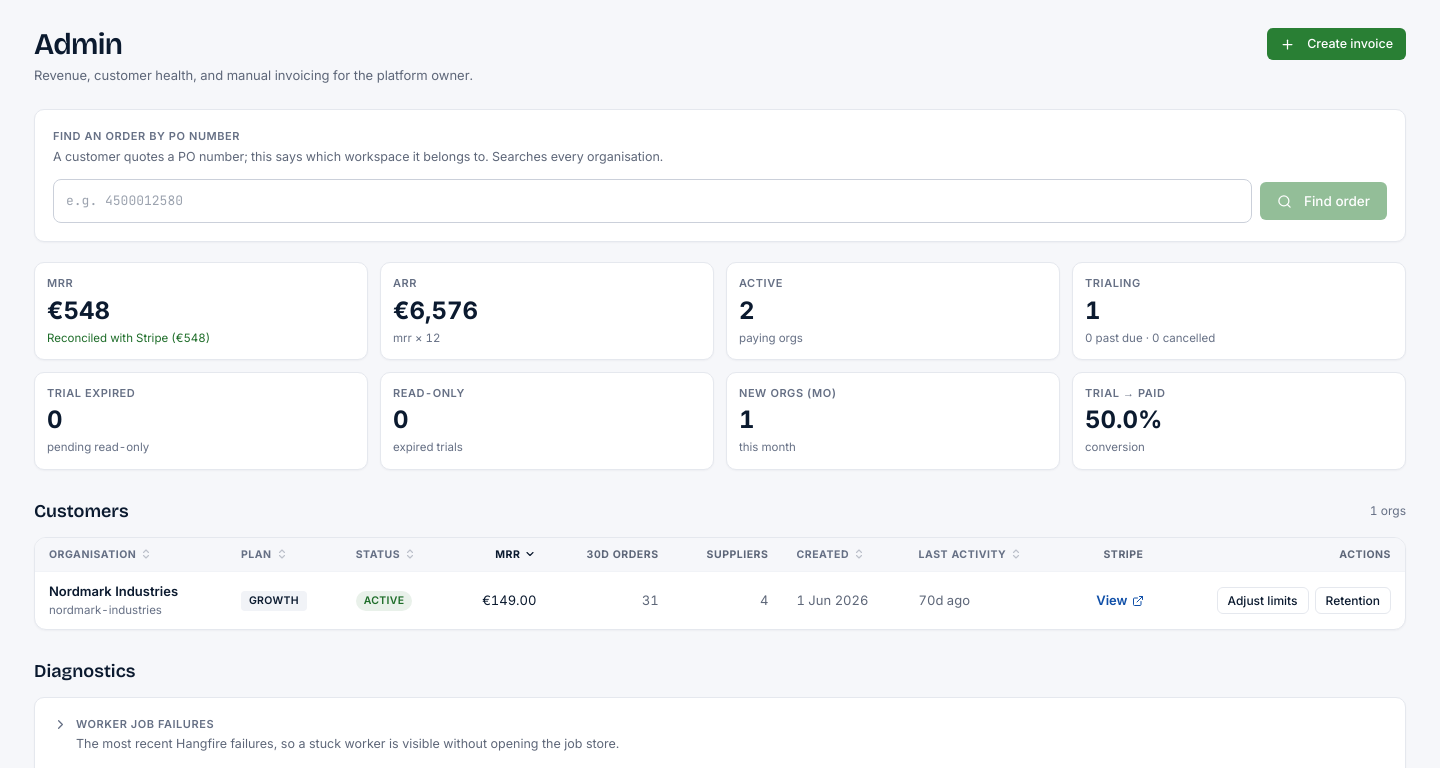
Scenario: admin — a lookup result names the owning workspace › reports a genuinely empty result as empty
Expected: the heading "Customers" is shown, [34,498,129,525]
Type "NOPE-1" into the search field named "po number" at (652, 201), box [53,179,1252,223]
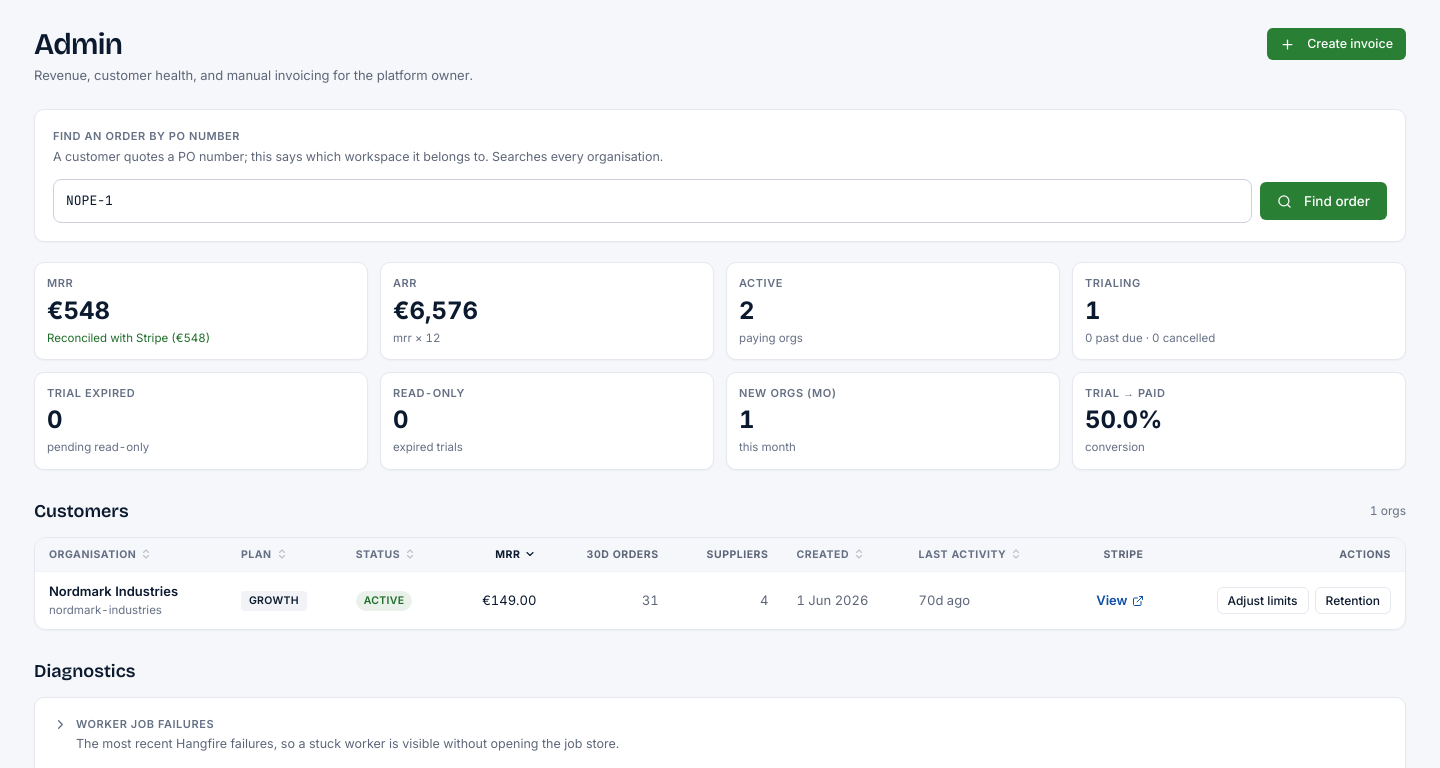
Click the button "Find order" at (1324, 201), box [1260,182,1387,220]
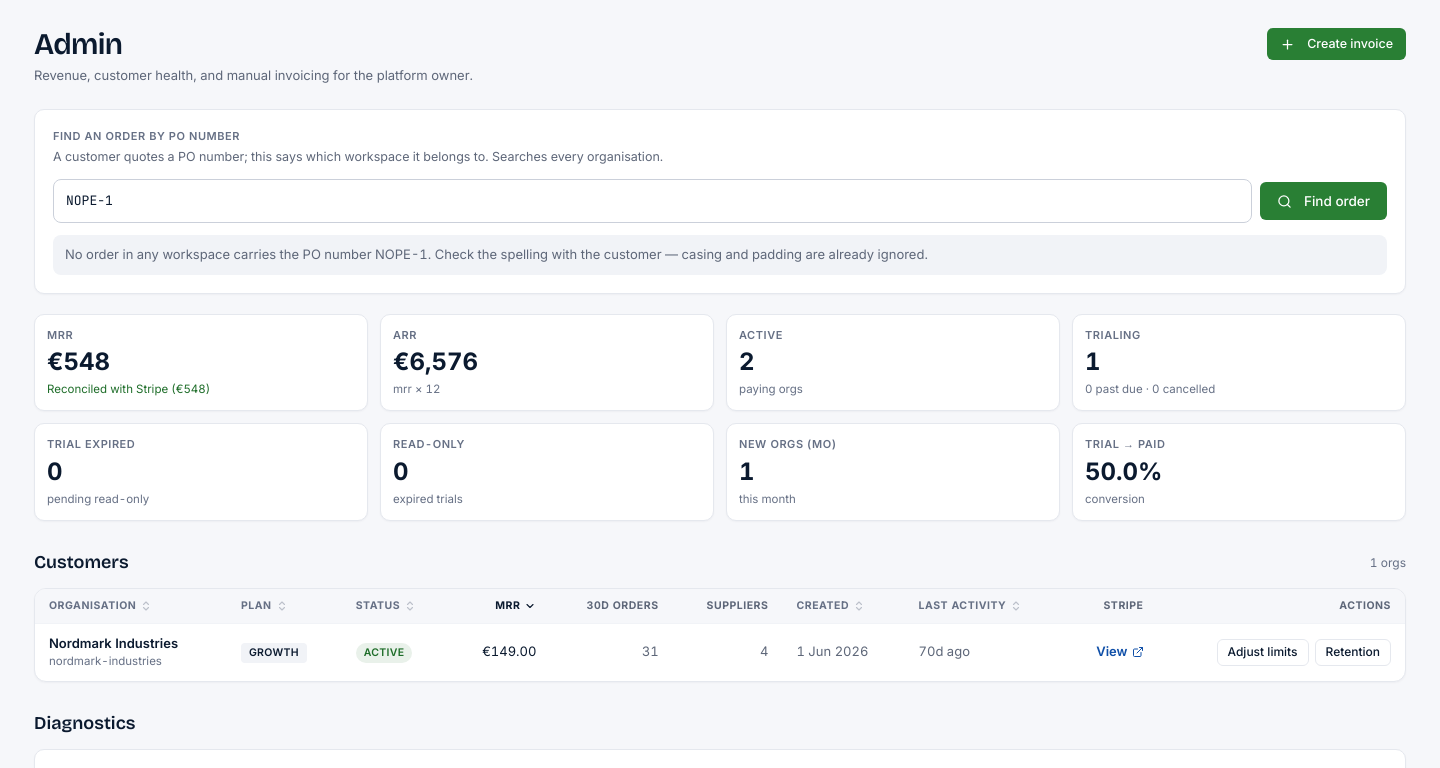
Now the text "No order" is shown, box [65,246,375,262]
